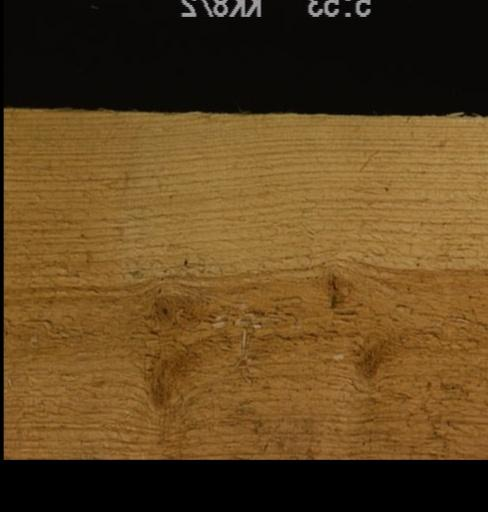sound_knot: (134, 339, 194, 408), (350, 334, 395, 378), (323, 270, 353, 314), (151, 290, 174, 323)
